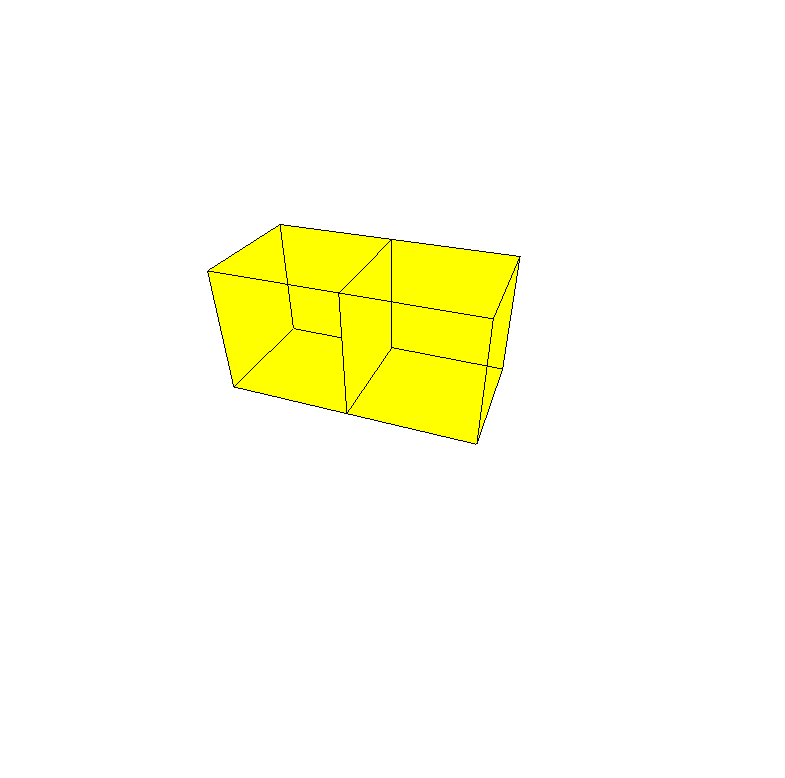YellowYellow: (204, 222, 522, 447)
